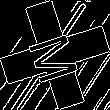M_E: (24, 25, 86, 85)
